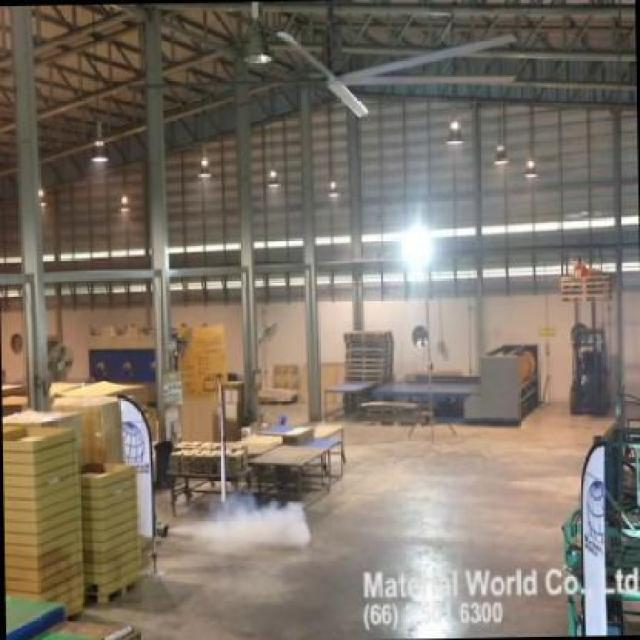fire: (186, 487, 317, 556)
